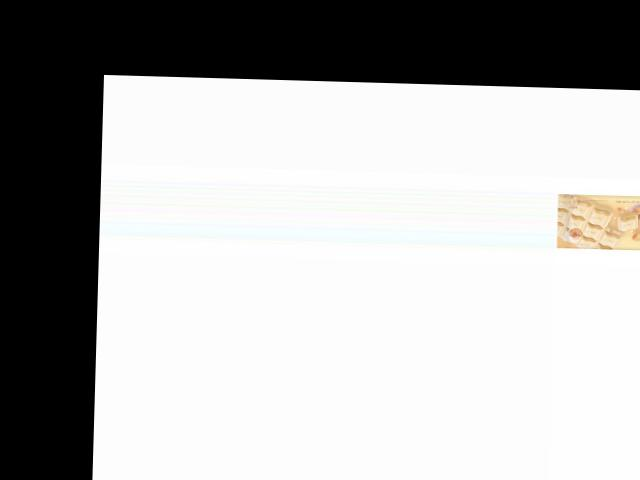chocolate: (556, 189, 640, 251)
